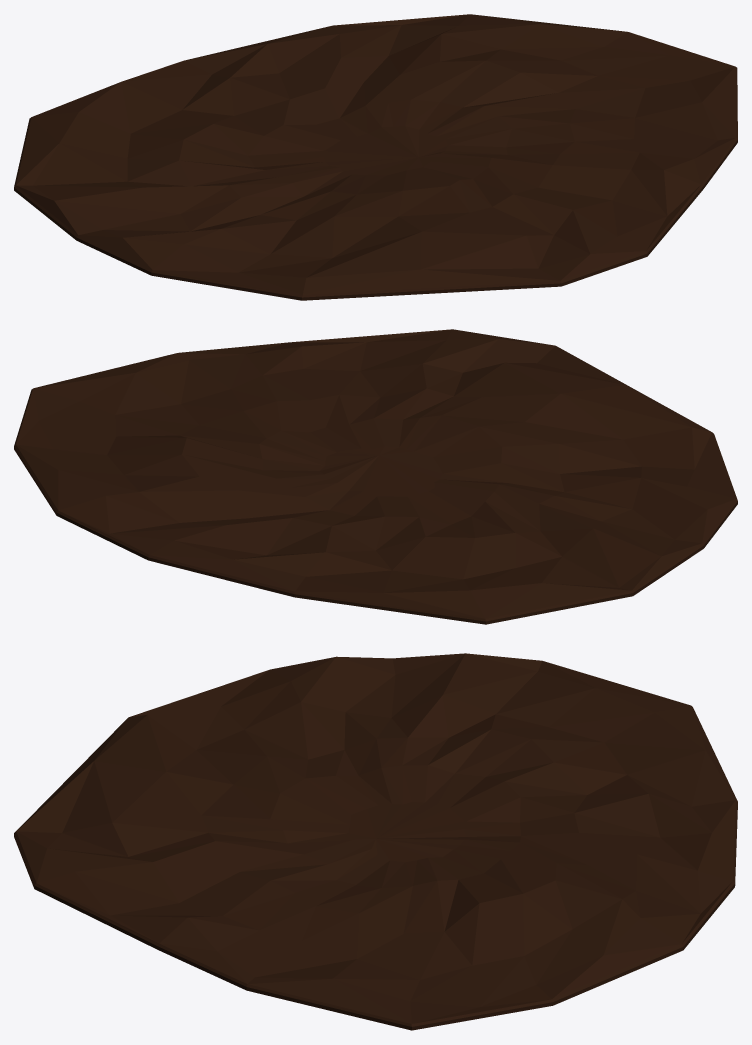
Rendered from dirt-terrain-blob-94e829.fbx.
3 renders of one model, top to bottom at view 1: azimuth 30°, elevation 25°; view 2: azimuth 150°, elevation 25°; view 3: azimuth 270°, elevation 25°, orthographic. The views are drawn at different scales.
Parts seen in each view (by area): view 1: dirt-terrain-blob-mesh; view 2: dirt-terrain-blob-mesh; view 3: dirt-terrain-blob-mesh.
Part boxes in pixels (<box>): dirt-terrain-blob-mesh: <box>14,14,737,300</box>; dirt-terrain-blob-mesh: <box>14,329,737,624</box>; dirt-terrain-blob-mesh: <box>14,653,737,1030</box>.
Bounding box in the file's own units: 7 × 0.2337 × 5.83.
